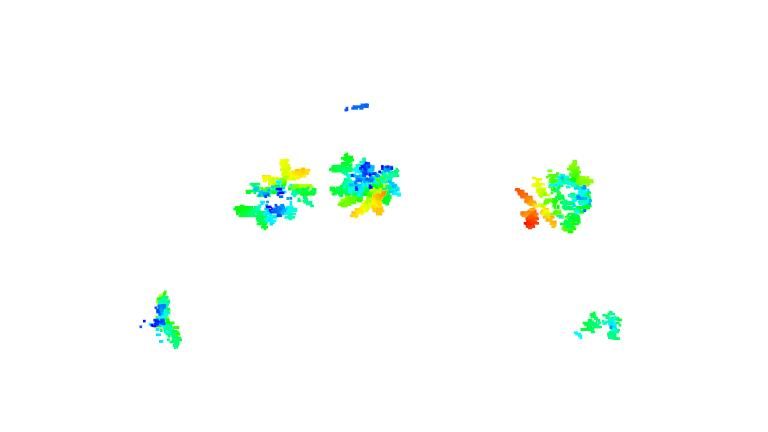chickpea: (231, 156, 317, 232), (515, 160, 595, 238), (328, 152, 403, 218), (146, 289, 181, 351), (573, 307, 626, 344)
